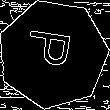P_E: (25, 32, 81, 76)
